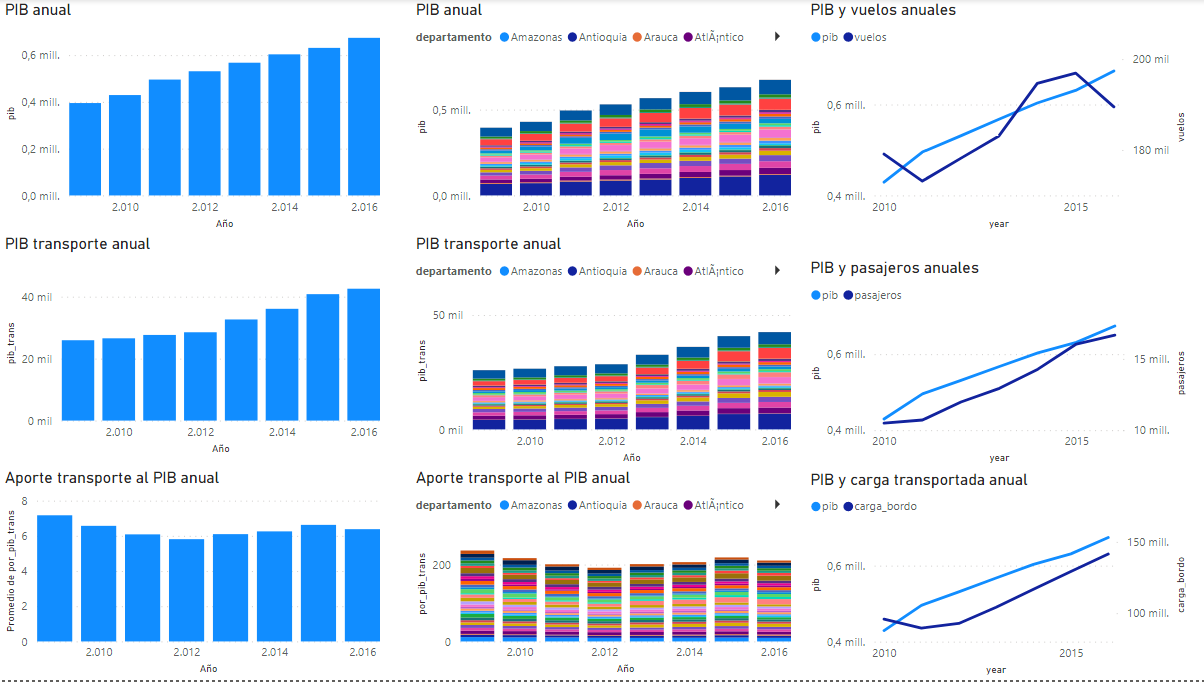

What the dashboard file says about the page in this screenshot:
{"tool":"powerbi","page":{"name":"PIB","canvas":[1280,720],"ordinal":1},"visuals":[{"type":"columnChart","title":"PIB anual","fields":{"Category":["dim_economica.ano"],"Y":["Sum(dim_economica.pib)"]},"box":[0,0,407.9,247.2],"z":0},{"type":"columnChart","title":"PIB transporte anual","fields":{"Category":["dim_economica.ano"],"Y":["Sum(dim_economica.pib_trans)"]},"box":[0,247.2,407.9,237.6],"z":1000},{"type":"columnChart","title":"Aporte transporte al PIB anual","fields":{"Category":["dim_economica.ano"],"Y":["Avg(dim_economica.por_pib_trans)"]},"box":[0,495.8,407.9,223.9],"z":2000},{"type":"columnChart","title":"PIB anual","fields":{"Category":["dim_economica.ano"],"Y":["Sum(dim_economica.pib)"],"Series":["dim_economica.departamento"]},"box":[435.4,0,407.9,247.2],"z":3000},{"type":"columnChart","title":"PIB transporte anual","fields":{"Category":["dim_economica.ano"],"Series":["dim_economica.departamento"],"Y":["Sum(dim_economica.pib_trans)"]},"box":[435.4,248.6,407.9,247.2],"z":4000},{"type":"columnChart","title":"Aporte transporte al PIB anual","fields":{"Category":["dim_economica.ano"],"Y":["Sum(dim_economica.por_pib_trans)"],"Series":["dim_economica.departamento"]},"box":[435.4,495.8,407.9,223.9],"z":5000},{"type":"lineChart","title":"PIB y vuelos anuales","fields":{"Y":["Sum(dim_economica.pib)"],"Category":["fecha.year"],"Y2":["Sum(fact_vuelo.vuelos)"]},"box":[852.9,0,407.9,247.2],"z":6000},{"type":"lineChart","title":"PIB y pasajeros anuales","fields":{"Y":["Sum(dim_economica.pib)"],"Category":["fecha.year"],"Y2":["Sum(fact_vuelo.pasajeros)"]},"box":[852.9,273.3,407.9,222.5],"z":7000},{"type":"lineChart","title":"PIB y carga transportada anual","fields":{"Y":["Sum(dim_economica.pib)"],"Category":["fecha.year"],"Y2":["Sum(fact_vuelo.carga_bordo)"]},"box":[852.9,497.2,407.9,222.5],"z":8000}]}

Visuals, with their boxes in screenshot pixels (x1, y1, x2, y2), scaled from the page's 1280x720 canvas onto the 1204x682 screenshot:
"PIB anual" columnChart: pyautogui.locateOnScreen(0, 0, 384, 234)
"PIB transporte anual" columnChart: pyautogui.locateOnScreen(0, 234, 384, 459)
"Aporte transporte al PIB anual" columnChart: pyautogui.locateOnScreen(0, 470, 384, 681)
"PIB anual" columnChart: pyautogui.locateOnScreen(410, 0, 793, 234)
"PIB transporte anual" columnChart: pyautogui.locateOnScreen(410, 235, 793, 470)
"Aporte transporte al PIB anual" columnChart: pyautogui.locateOnScreen(410, 470, 793, 681)
"PIB y vuelos anuales" lineChart: pyautogui.locateOnScreen(802, 0, 1186, 234)
"PIB y pasajeros anuales" lineChart: pyautogui.locateOnScreen(802, 259, 1186, 470)
"PIB y carga transportada anual" lineChart: pyautogui.locateOnScreen(802, 471, 1186, 681)
